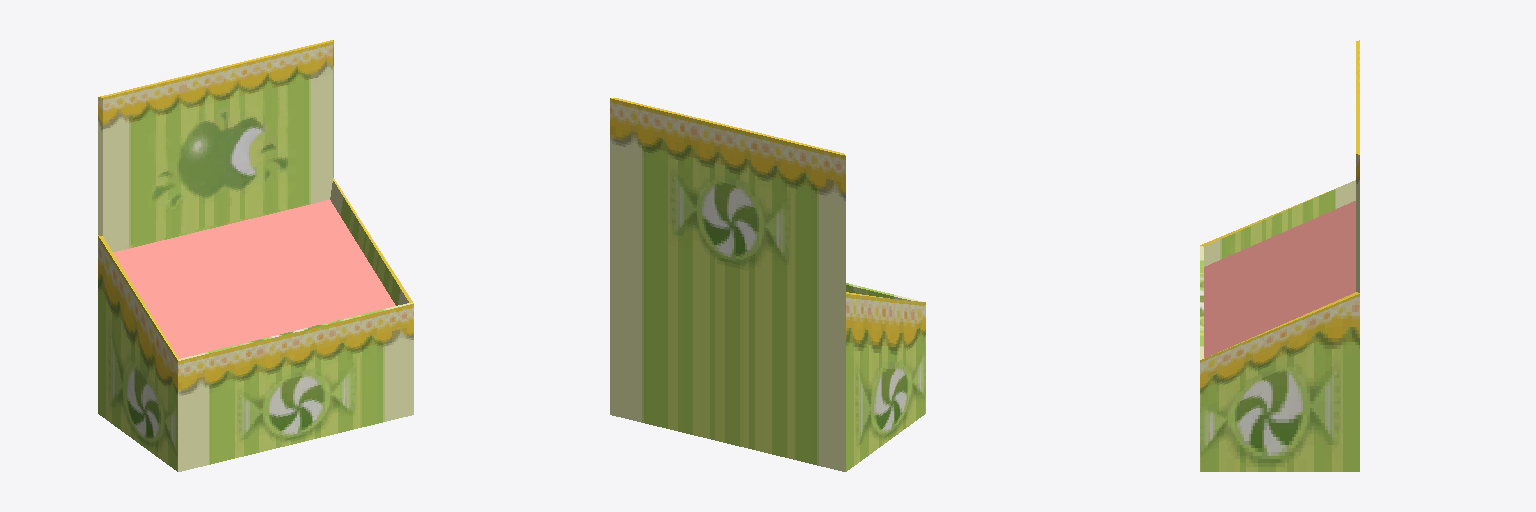
3 views of the same model, side by side, from view 1: azimuth 30°, elevation 25°; view 2: azimuth 150°, elevation 25°; view 3: azimuth 270°, elevation 25° (orthographic).
Visible parts, largest first — view 1: default; view 2: default; view 3: default.
Boxes of the visible parts, box(x1,y1,x2,y2) form: default: box(98, 40, 413, 471); default: box(610, 98, 925, 471); default: box(1200, 40, 1359, 471).
Bounding box in the file's own units: 6.76 × 8.67 × 3.98.
Materials: 1 (1 with a texture image).